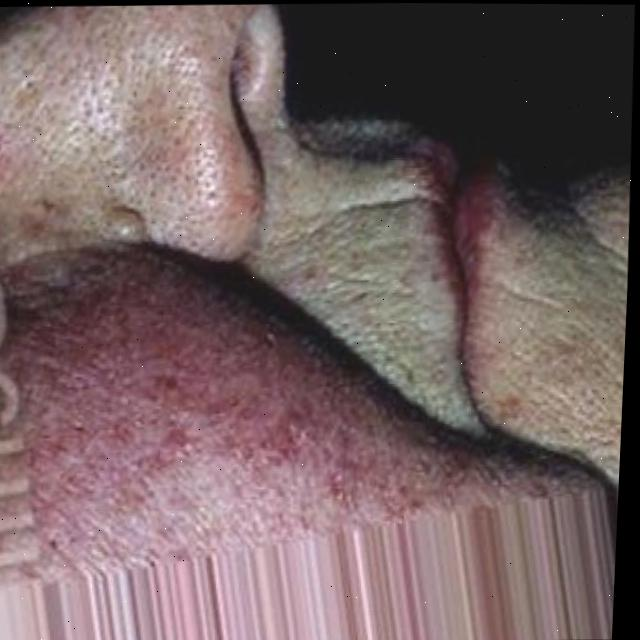Rosacea: (0, 338, 469, 532)
